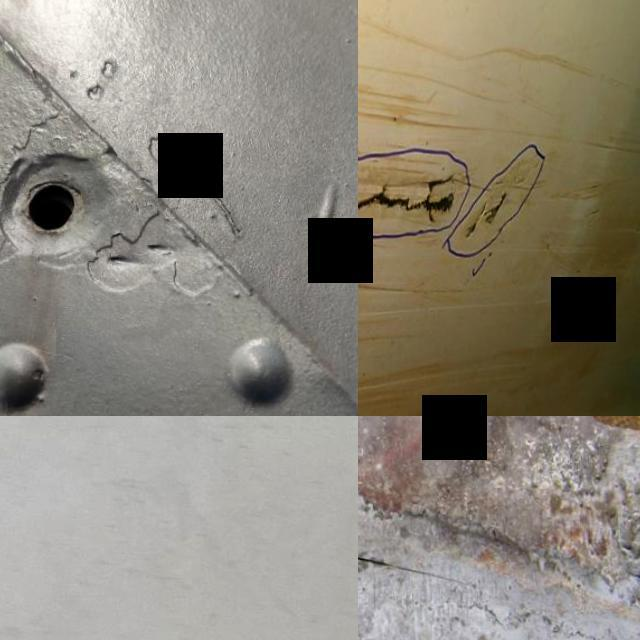Crack: (358, 546, 470, 583), (358, 173, 455, 215), (459, 184, 508, 239)
Missing_Fastener: (0, 110, 152, 295)
